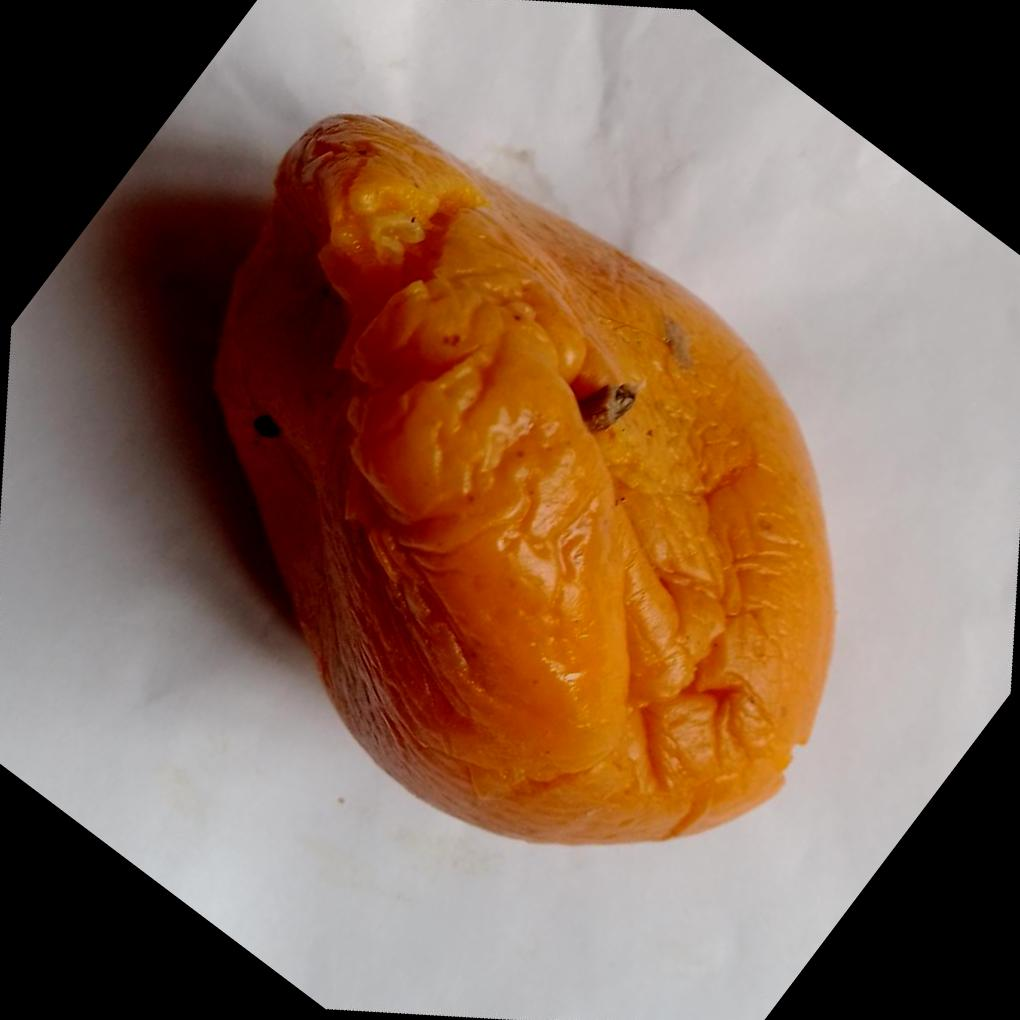FreshOrange: (207, 107, 836, 846)
